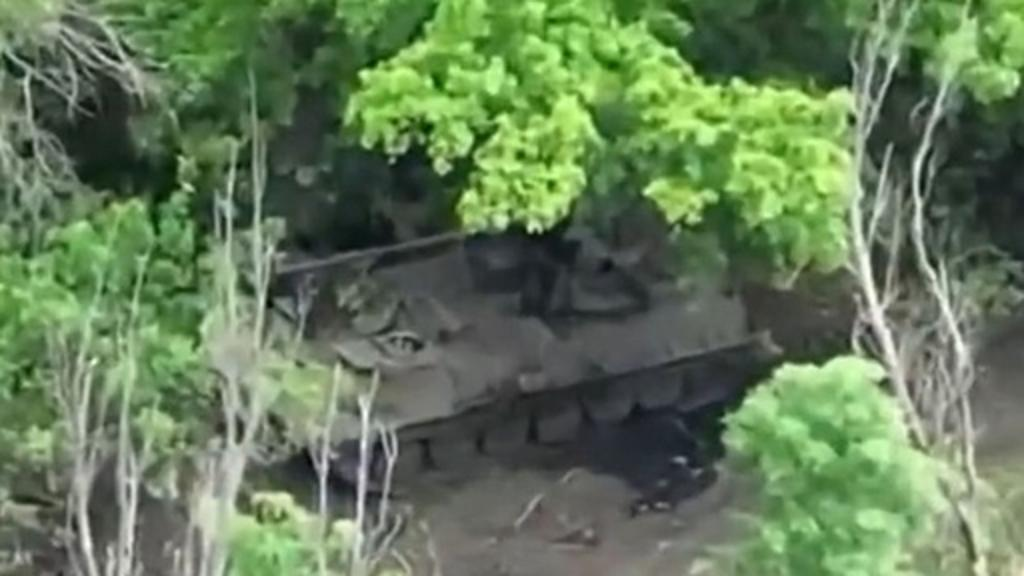APC-IFV: (234, 188, 774, 478)
